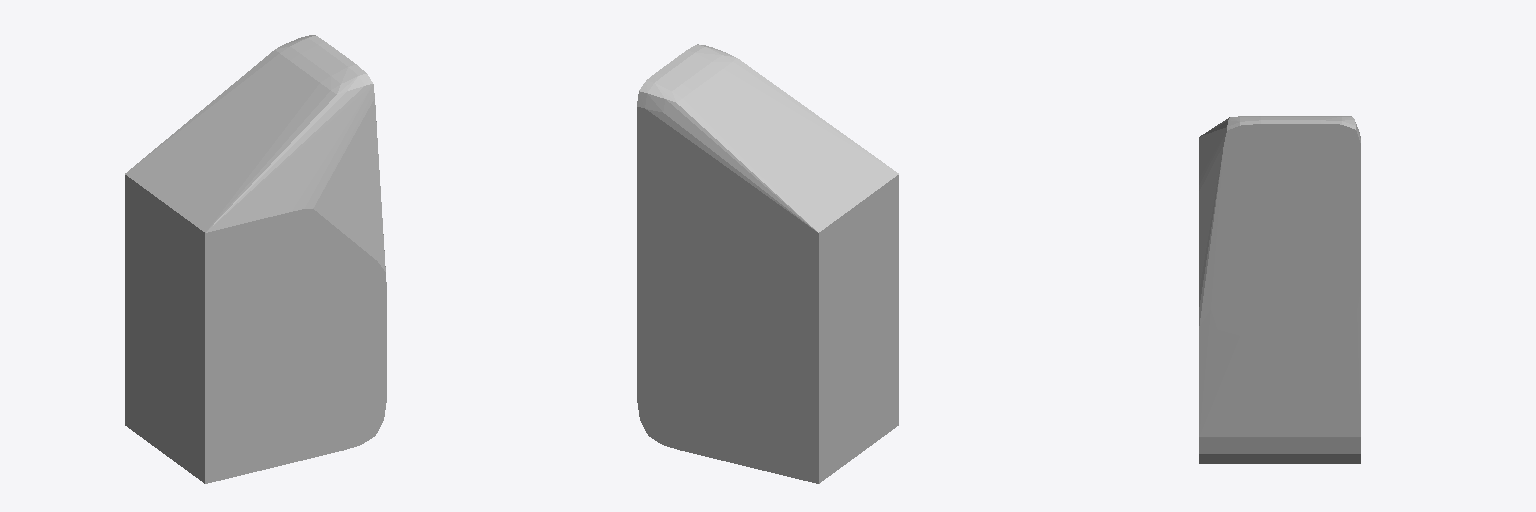
File: block_2_collision_8.obj
The picture shows the model from 3 angles: view 1: azimuth 30°, elevation 25°; view 2: azimuth 150°, elevation 25°; view 3: azimuth 270°, elevation 25°; orthographic projection.
Size of the model in its own units: 0.0165 by 0.0306 by 0.0127.